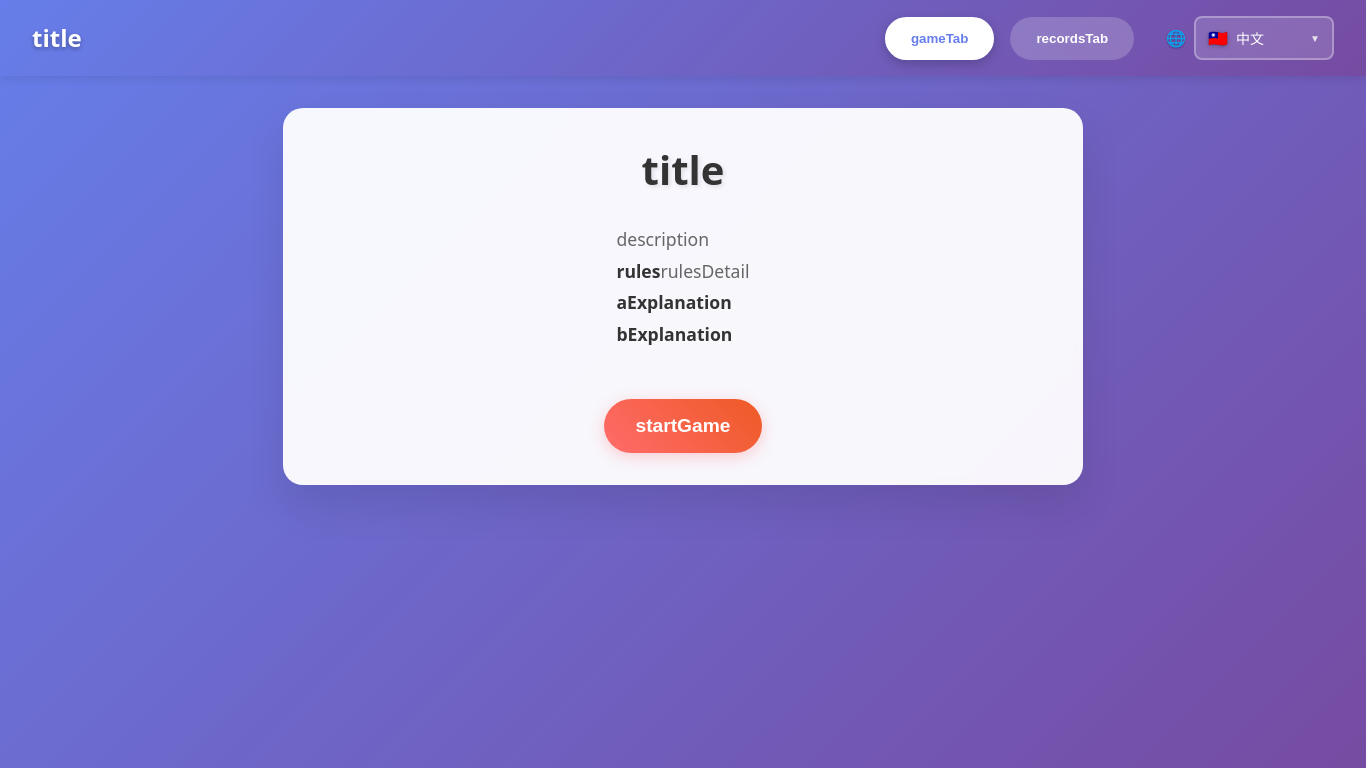
Test: complete game flow tests › player guess flow › should handle player guess input
# Start game
Click the button "startGame" at (683, 426), box top-left (604, 399), bottom-right (762, 453)
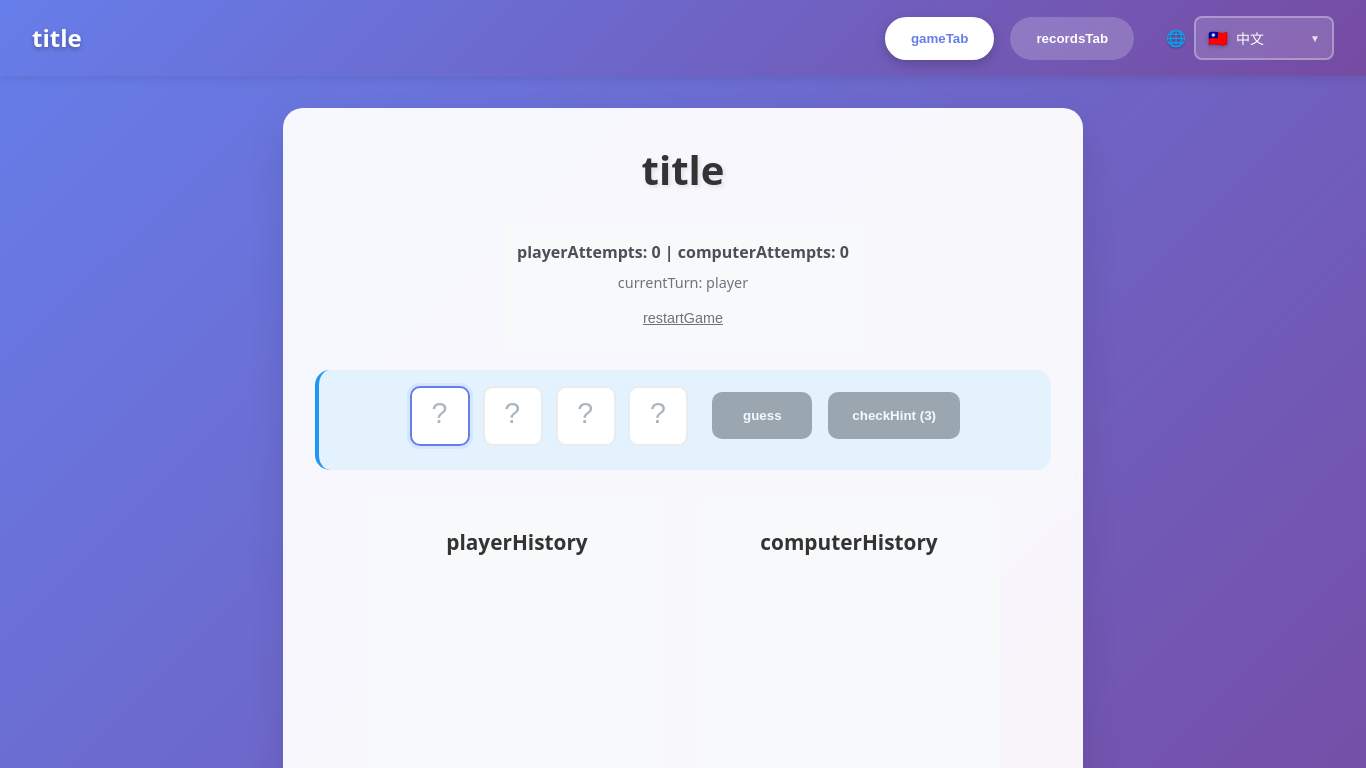
Expected: the field with id "digit-0" is shown
# Player enters guess in 4 separate inputs
Type "1" into the field with id "digit-0" at (440, 416), box top-left (410, 386), bottom-right (470, 446)
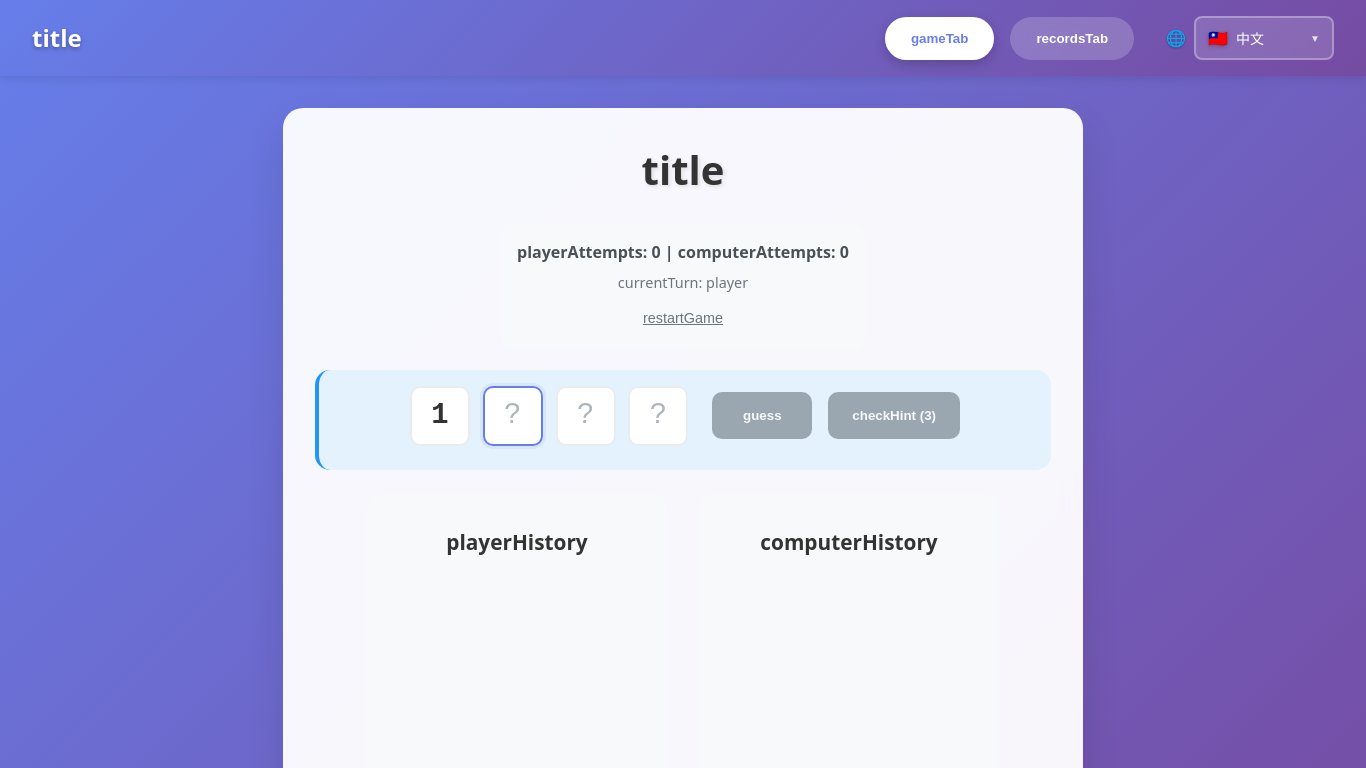
Type "2" into the field with id "digit-1" at (513, 416), box top-left (483, 386), bottom-right (543, 446)
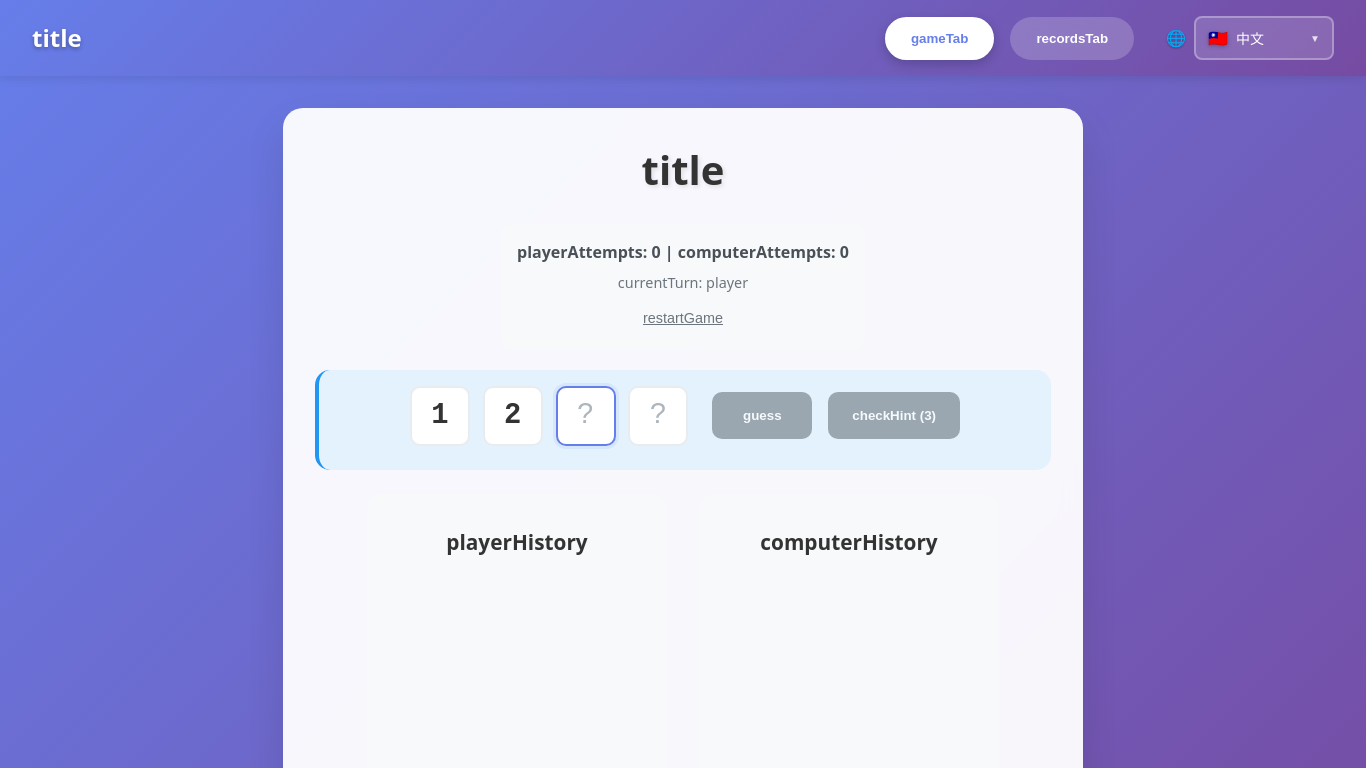
Type "3" into the field with id "digit-2" at (586, 416), box top-left (556, 386), bottom-right (616, 446)
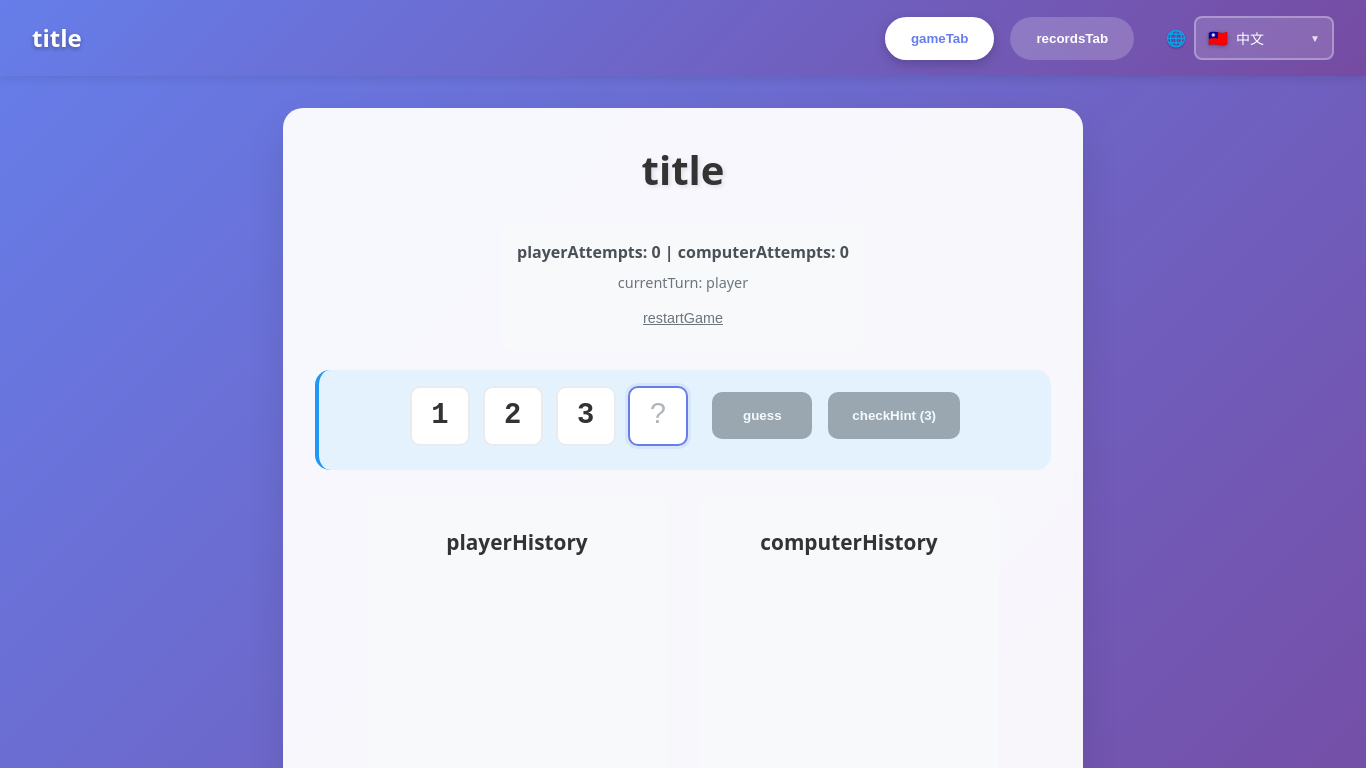
Type "4" into the field with id "digit-3" at (658, 416), box top-left (628, 386), bottom-right (688, 446)
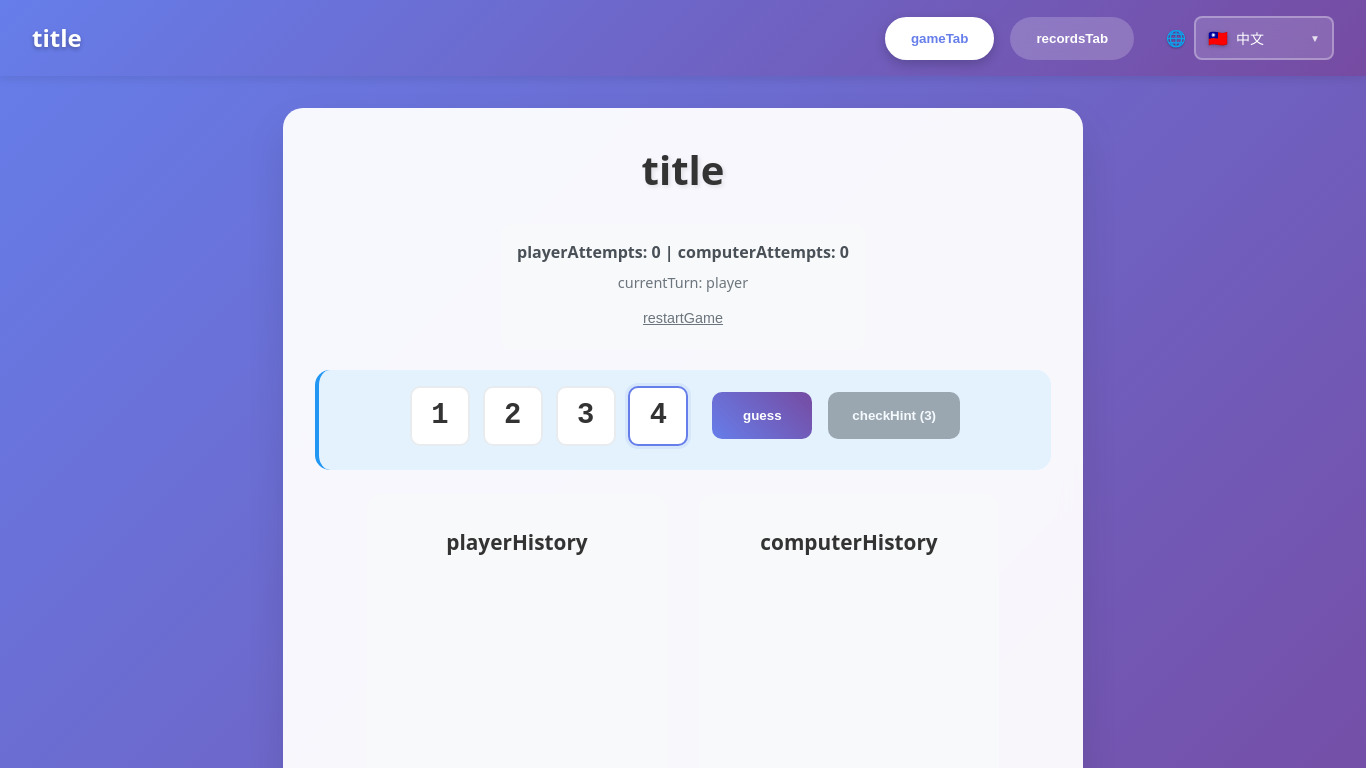
Expected: the button "guess" is enabled, top-left (712, 392), bottom-right (812, 439)
